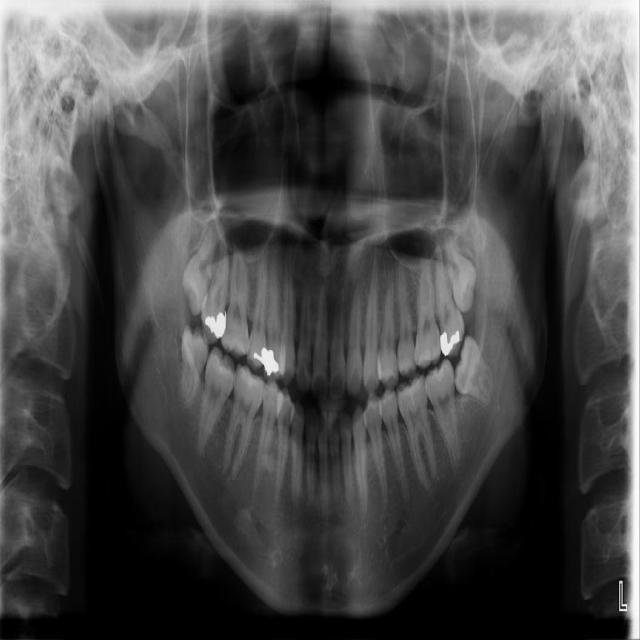Filling: (204, 311, 229, 342), (440, 329, 462, 355), (264, 349, 279, 376), (252, 344, 267, 367)
impacted tooth: (452, 337, 504, 409), (179, 326, 210, 407)
